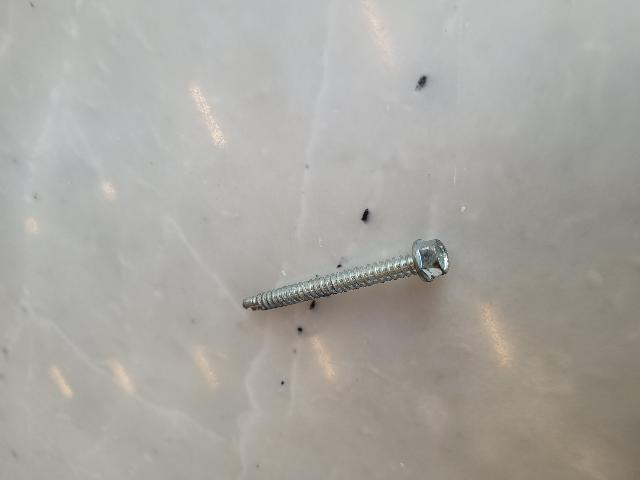Metal: (237, 235, 454, 312)
